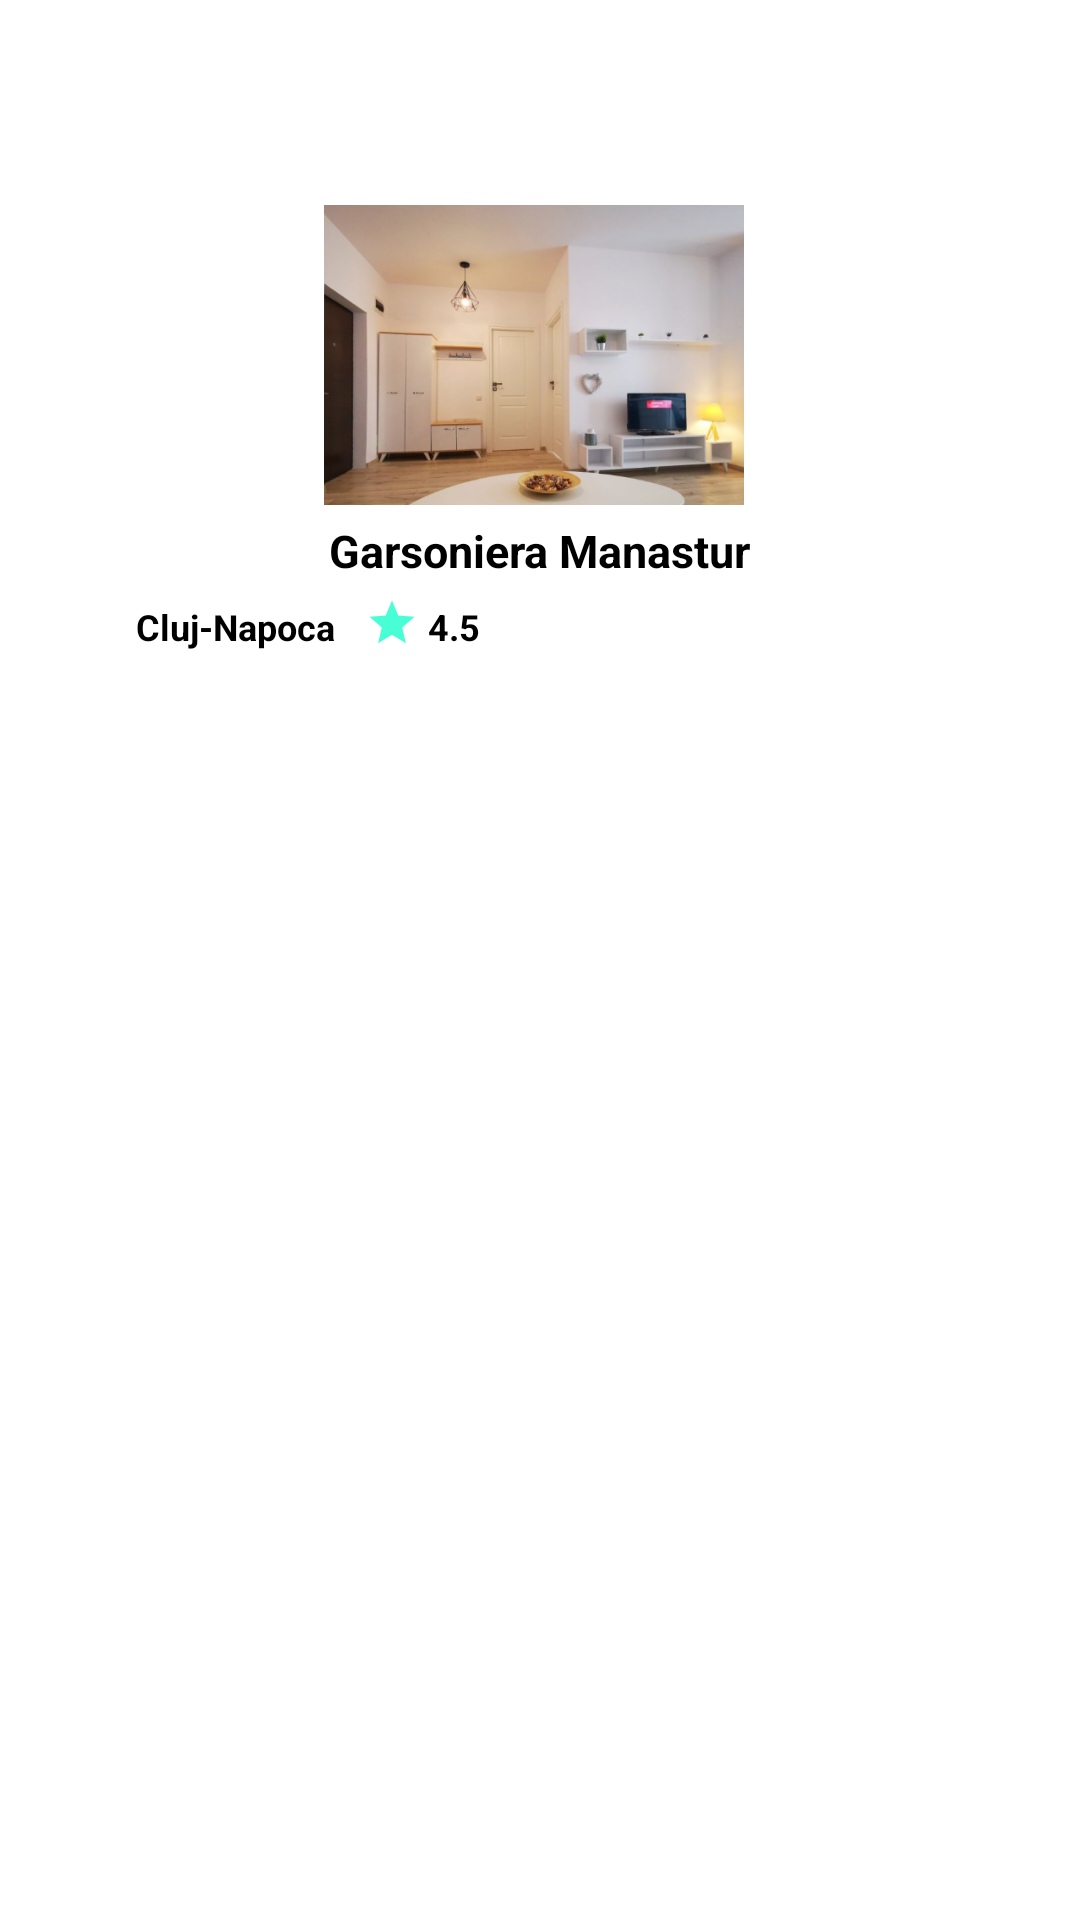

Named icons in this screenshot (1080px×1920px) and their bounding boxes, [x1, y1, x2, y2]:
star: [370, 601, 414, 643]
